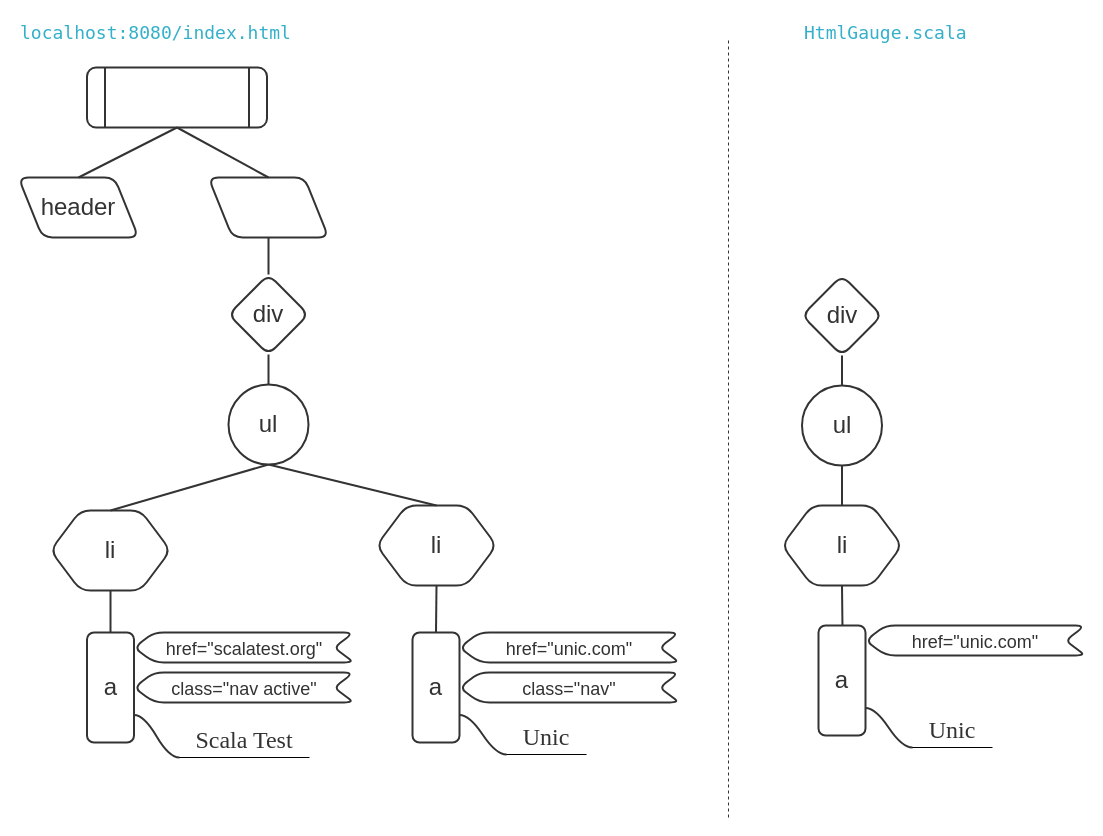
Some shapes in this 1103 by 836 pixel diagram are drawn without their labels. The centre of each missing label's shape, as x and y in pixels:
body: (x=268, y=207)
document: (x=177, y=97)
